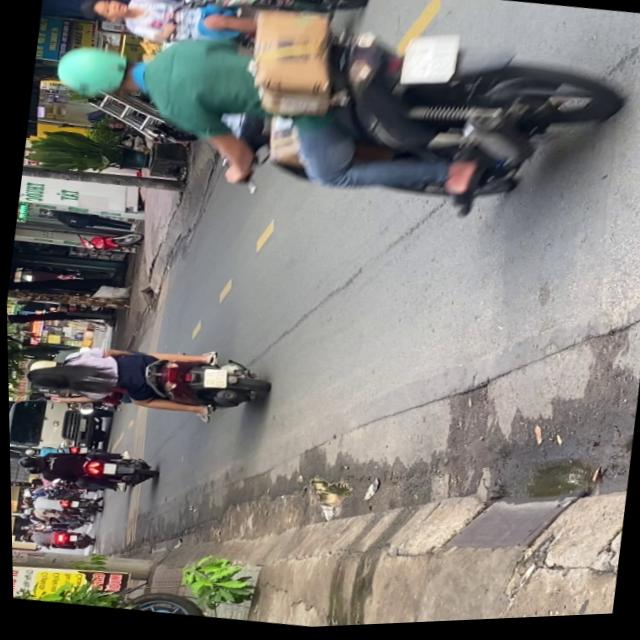helmet: (51, 41, 148, 104), (13, 453, 39, 471)
licenseplate: (36, 0, 632, 251), (8, 322, 270, 437), (11, 437, 156, 500)
motorcyclist: (21, 360, 72, 395), (80, 0, 131, 26)
nohelmet: (398, 34, 457, 93), (198, 369, 224, 391), (100, 463, 113, 475)
